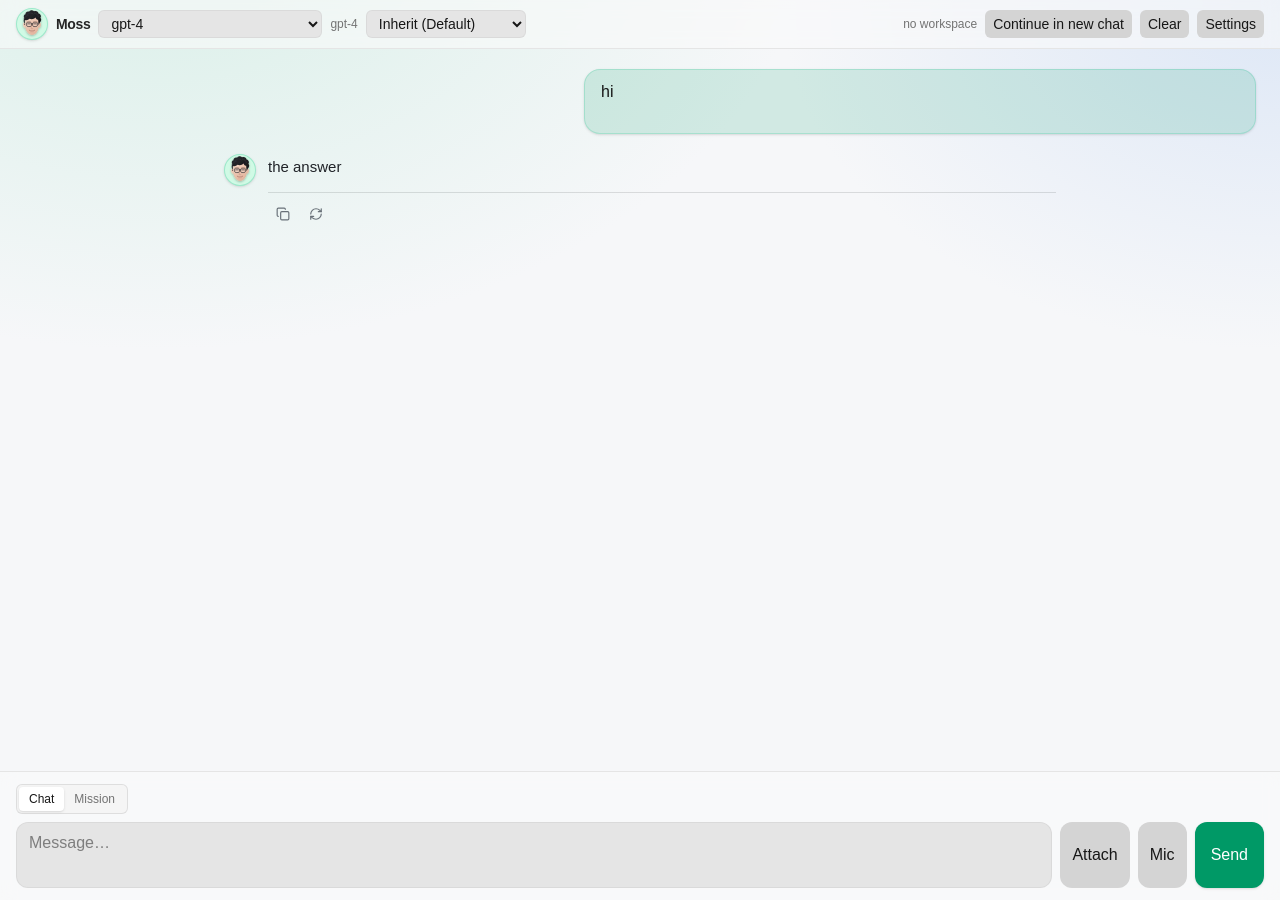
ChatPanel › shows copied feedback after clicking the reply copy action
The width and height of the screenshot is (1280, 900).
Click the button named "Copy response": (283, 214) [268,199,298,229]
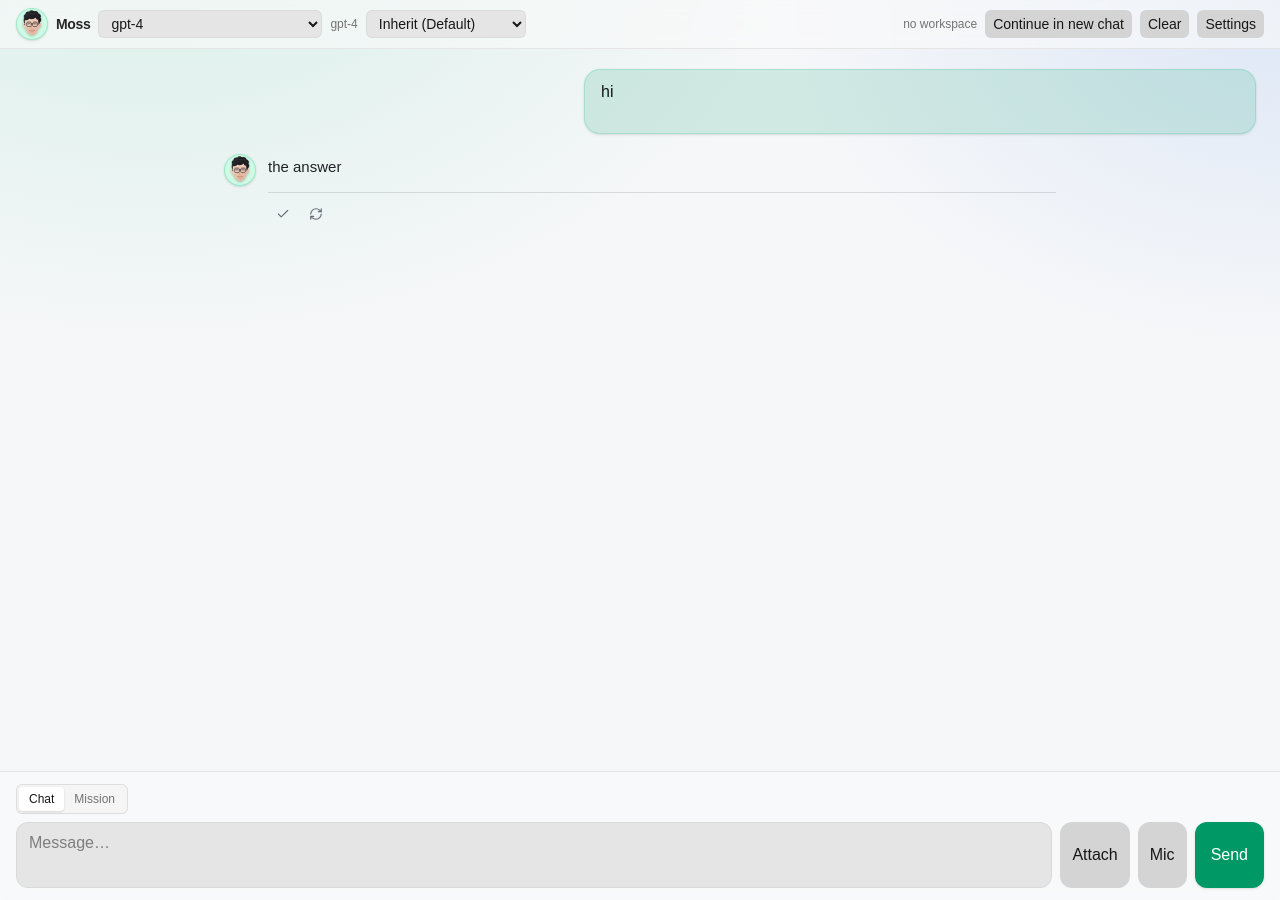
Expected: the button named "Response copied" is shown, [268,199,298,229]
